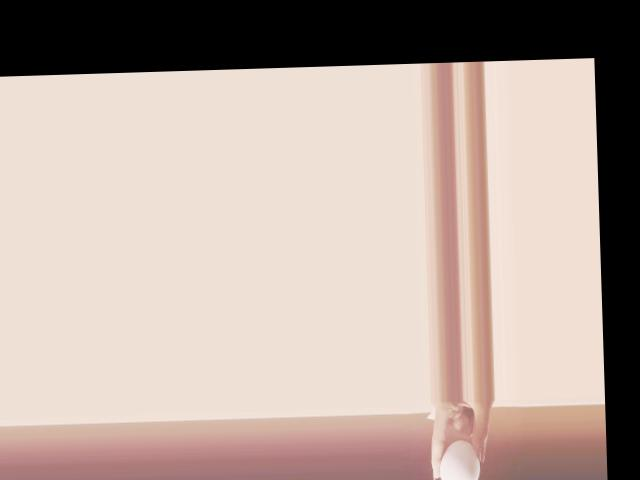egg: (439, 438, 481, 480)
